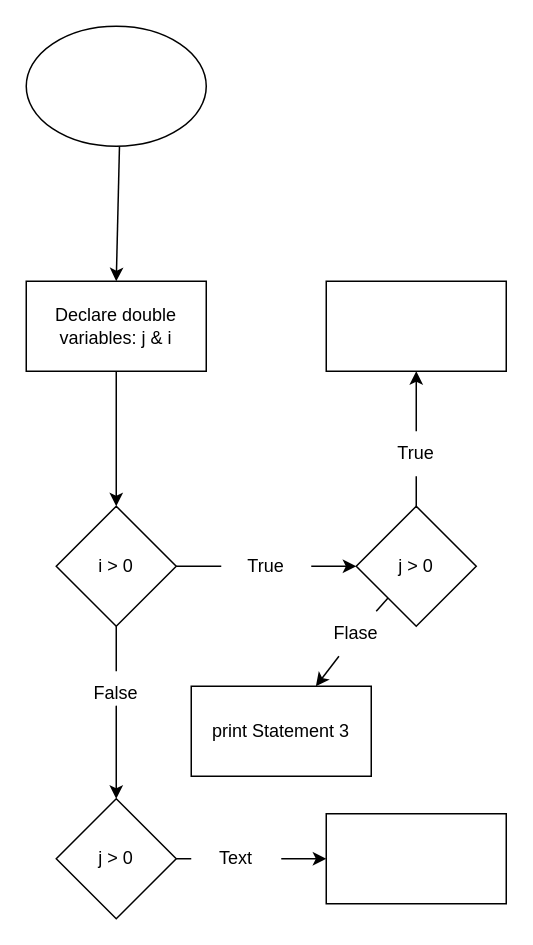
This 533x945 diagram has some shape labels left out. Each missing label, with the centre of its shape:
"Print Statement 1" belongs at pixel 415 325.
"print Statement 2" belongs at pixel 415 858.
"Start" belongs at pixel 115 85.
